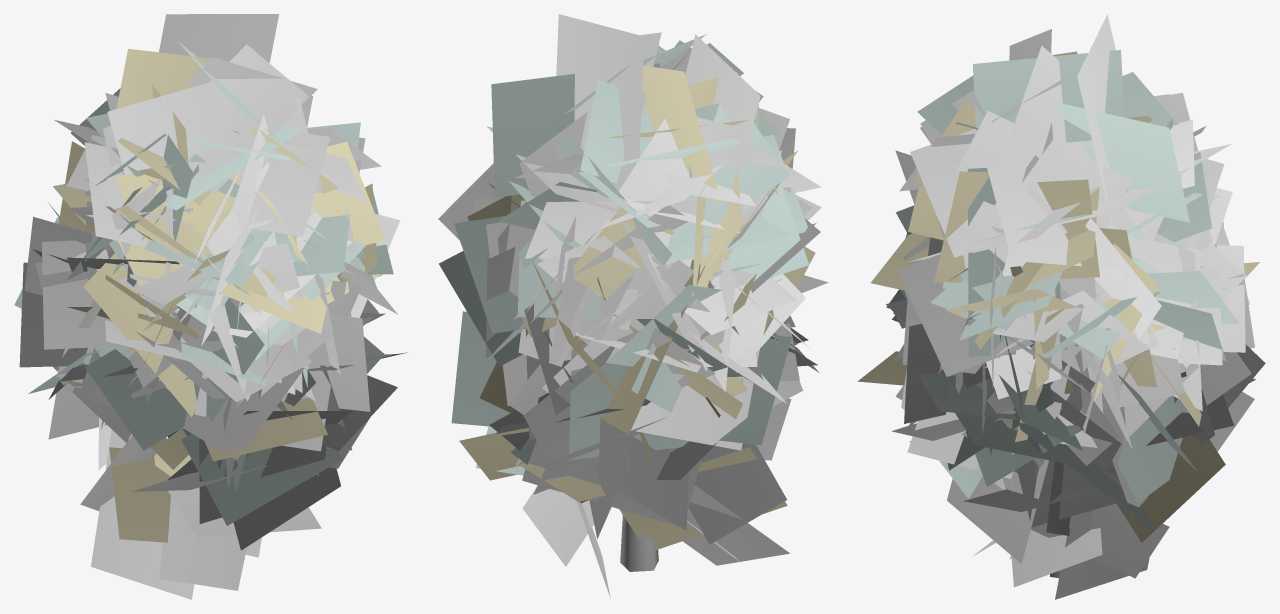
The model's file is yard-arborvitae.lod0.glb.
The picture shows the model from 3 angles, left to right: view 1: azimuth 30°, elevation 25°; view 2: azimuth 150°, elevation 25°; view 3: azimuth 270°, elevation 25°; orthographic projection. The views are drawn at different scales.
Parts seen in each view (by area): view 1: yard-arborvitae; view 2: yard-arborvitae; view 3: yard-arborvitae.
Boxes of the visible parts, x1,y1,x2,y2 form: yard-arborvitae: (14,14,406,599); yard-arborvitae: (438,14,828,598); yard-arborvitae: (857,14,1265,599).
Bounding box in the file's own units: 0.5309 × 0.8353 × 0.5551.
